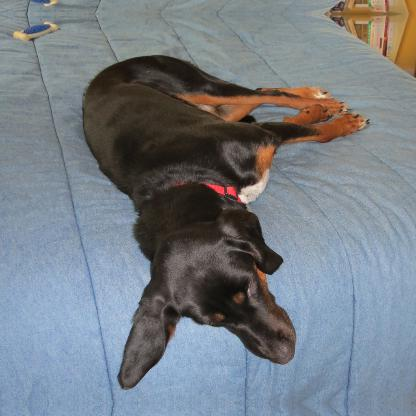Dog: (82, 52, 375, 390)
